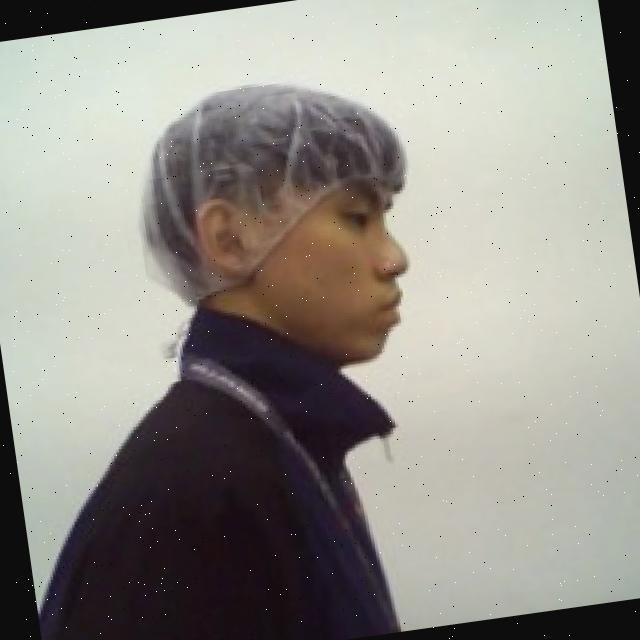gloves: (121, 60, 427, 310)
no_hairnet: (198, 170, 428, 388)
